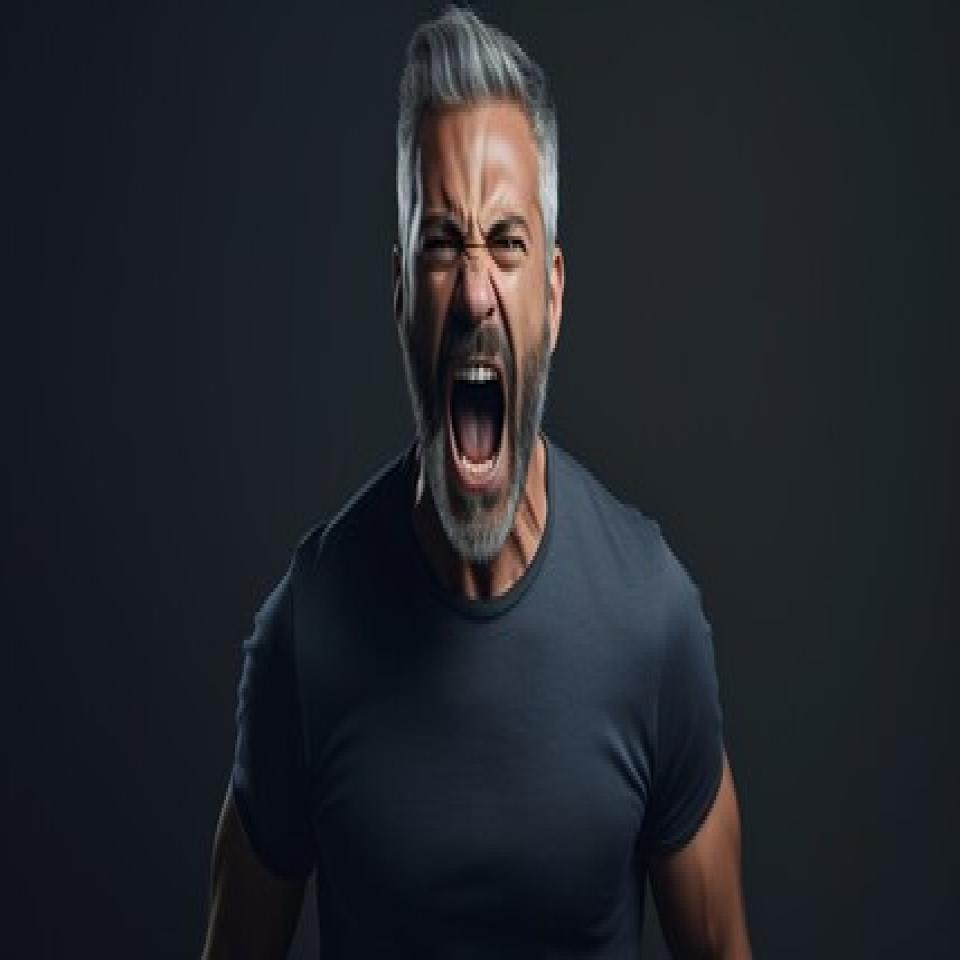Anger: (404, 109, 551, 560)
